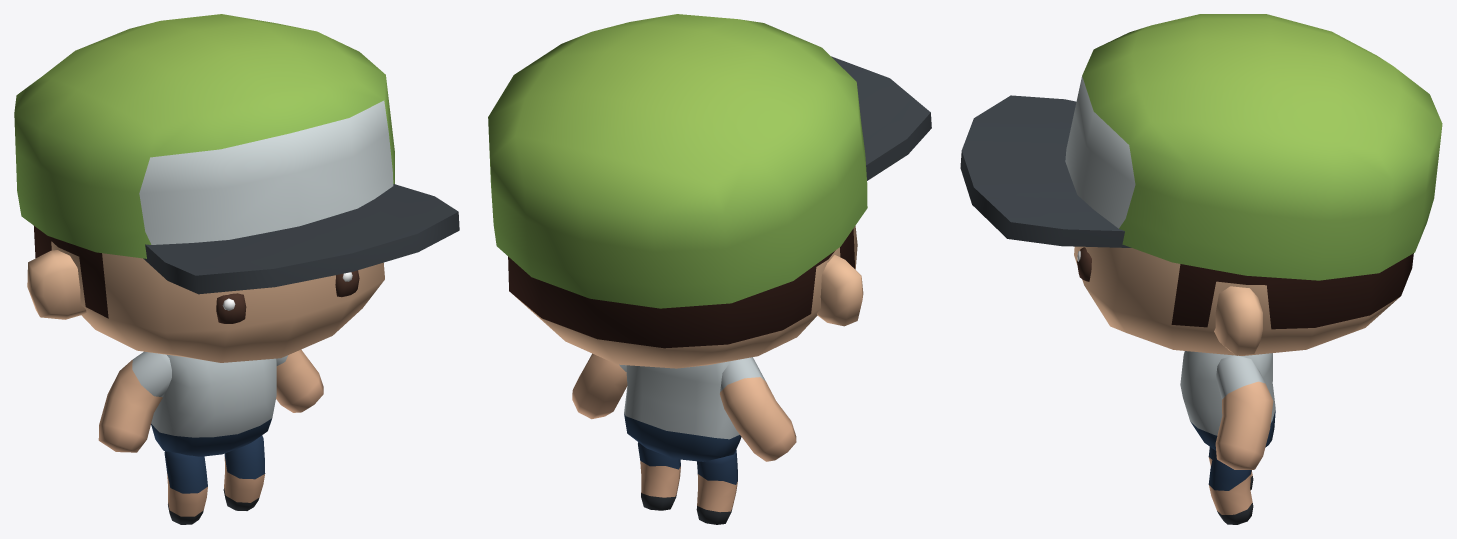
Rendered from idle_0027.obj.
3 views of the same model, side by side, from view 1: azimuth 30°, elevation 25°; view 2: azimuth 150°, elevation 25°; view 3: azimuth 270°, elevation 25° (orthographic).
Visible parts, largest first — view 1: Object_41, Object_42, Object_36, Object_44, Object_38; view 2: Object_41, Object_44, Object_36, Object_42; view 3: Object_41, Object_36, Object_42, Object_44.
Boxes of the visible parts, x1,y1,x2,y2 form: Object_41: (14,14,394,258); Object_42: (139,100,459,294); Object_36: (27,226,384,362); Object_44: (98,349,323,524); Object_38: (216,270,359,323); Object_41: (488,14,867,308); Object_44: (572,353,796,524); Object_36: (508,226,863,368); Object_42: (831,56,931,180); Object_41: (1082,14,1442,280); Object_36: (1074,246,1413,355); Object_42: (960,76,1135,247); Object_44: (1180,351,1275,524).
Size of the model in its own units: 0.9691 by 1.22 by 1.14.
